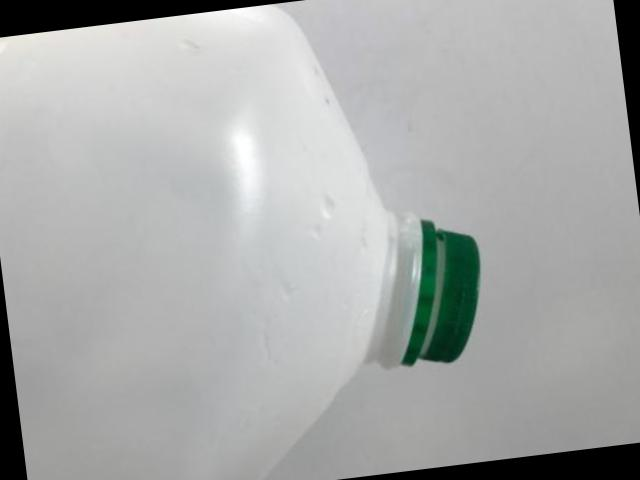plastic: (0, 4, 481, 480)
